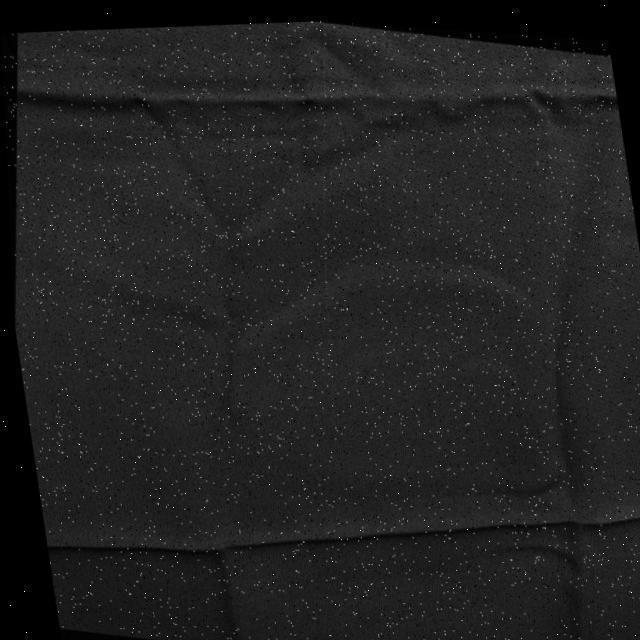broken_yarn: (40, 495, 640, 556), (20, 79, 617, 109)
